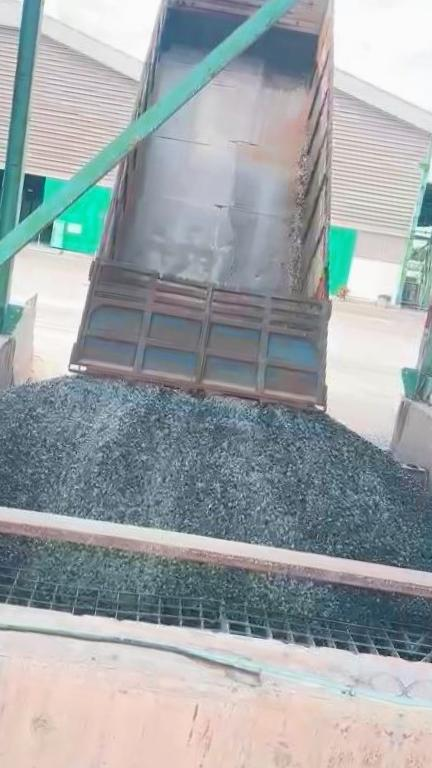gravel: (0, 377, 432, 569), (0, 529, 418, 621)
